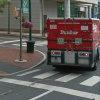Crosswalk: (20, 63, 100, 96)
